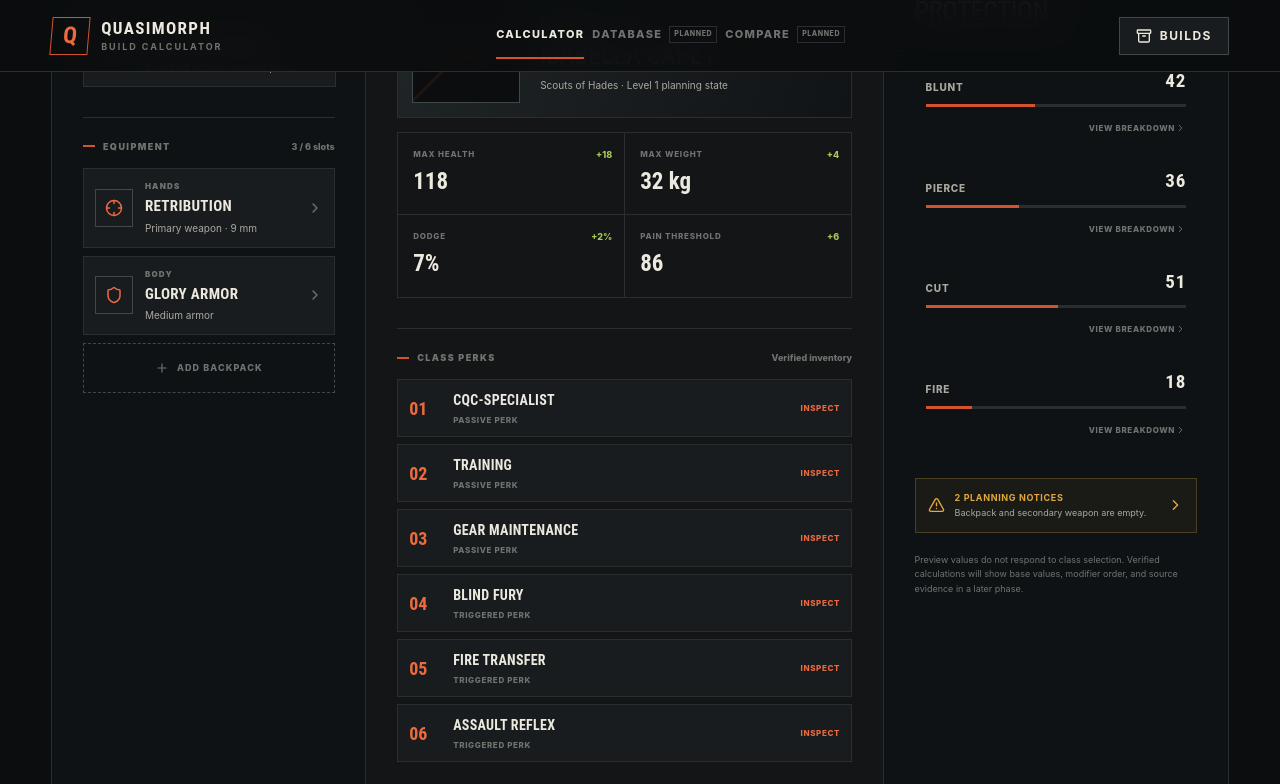
Scenario: application foundation › expands exact perk levels and source metadata
This screenshot has width=1280, height=784.
(page scrolled)
Click the text "CQC-specialist": (504, 400) x1=453 y1=392 x2=555 y2=408
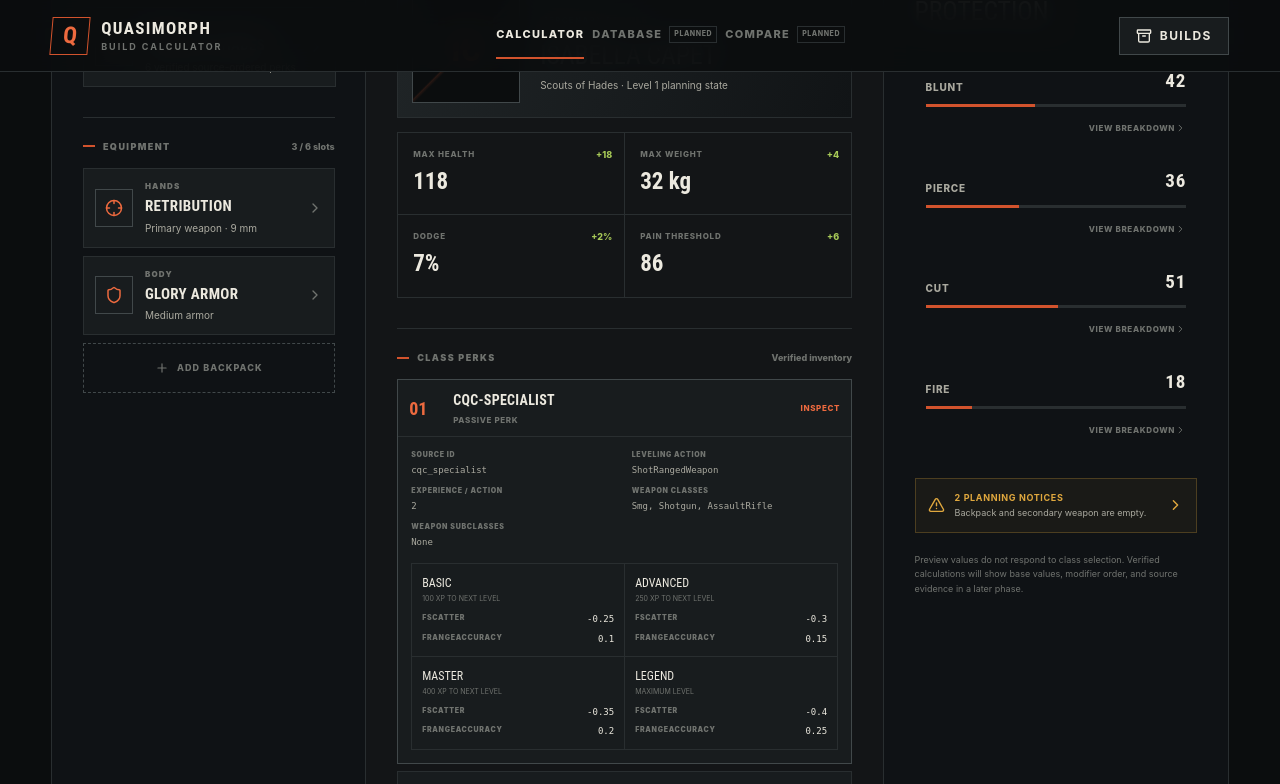
Now the text "cqc_specialist" is shown, box x1=411 y1=465 x2=487 y2=475
Now the text "ShotRangedWeapon" is shown, box x1=632 y1=465 x2=718 y2=475
Now the text "Smg, Shotgun, AssaultRifle" is shown, box x1=632 y1=501 x2=773 y2=511
